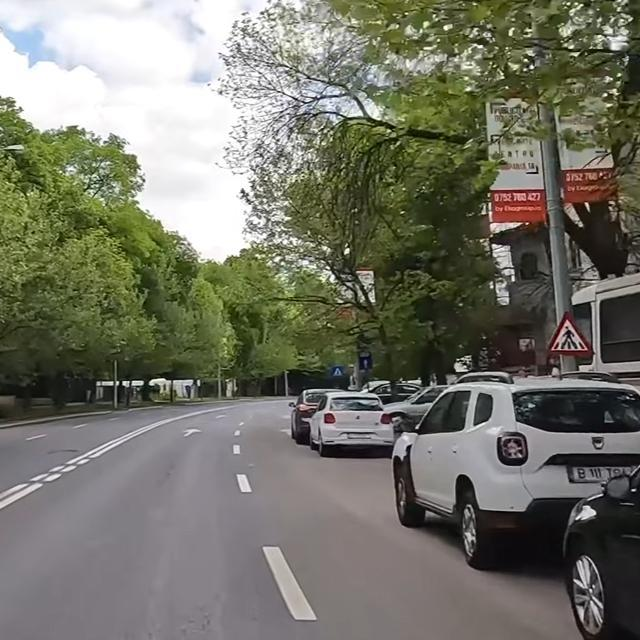warn_crosswalk: (546, 308, 592, 355)
